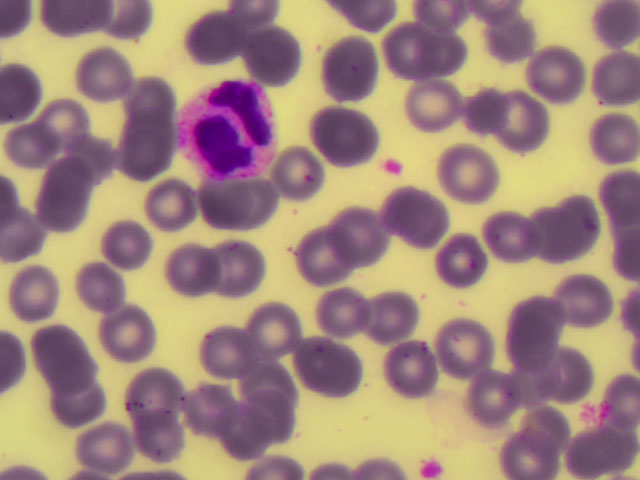Platelets: (384, 157, 401, 175), (422, 460, 440, 477)
RBC: (328, 205, 396, 273), (316, 32, 377, 104), (303, 110, 376, 168), (441, 142, 497, 206), (382, 340, 440, 398), (437, 315, 496, 372), (298, 338, 358, 394), (554, 193, 602, 260), (242, 27, 299, 82), (243, 303, 299, 358), (124, 369, 182, 421), (525, 46, 579, 101), (1, 181, 36, 261), (492, 95, 545, 146), (403, 75, 459, 123), (181, 11, 239, 56), (602, 367, 640, 433), (540, 347, 589, 398), (588, 51, 640, 99), (45, 171, 90, 226), (295, 228, 345, 277), (383, 22, 432, 72), (100, 222, 151, 270), (398, 196, 449, 244), (380, 183, 431, 231), (273, 151, 324, 199), (228, 179, 279, 227), (197, 177, 248, 225), (148, 181, 199, 229), (63, 134, 114, 182), (41, 99, 92, 147), (79, 46, 130, 94), (124, 75, 175, 123), (118, 127, 169, 175), (78, 419, 129, 467), (132, 409, 183, 457), (183, 380, 234, 428), (201, 324, 252, 372), (212, 242, 263, 290), (165, 247, 216, 295), (52, 378, 103, 426), (41, 348, 92, 396), (31, 319, 82, 367), (7, 266, 58, 314), (364, 291, 415, 339), (312, 284, 363, 332), (4, 119, 55, 167), (109, 147, 160, 195), (457, 86, 508, 134), (485, 211, 536, 259), (415, 26, 466, 74), (483, 14, 534, 62), (79, 260, 130, 308), (215, 407, 266, 455), (243, 391, 294, 439), (242, 357, 293, 405), (522, 211, 573, 259), (559, 278, 610, 326), (510, 290, 561, 338), (507, 315, 558, 363), (466, 369, 517, 417), (498, 432, 549, 480), (509, 359, 560, 407), (519, 403, 570, 451), (565, 427, 615, 475), (589, 1, 640, 48), (105, 311, 154, 358), (440, 234, 487, 282), (88, 1, 149, 37), (591, 110, 639, 155), (1, 64, 41, 117), (602, 167, 640, 222), (602, 223, 640, 278), (314, 461, 403, 480), (346, 2, 396, 35), (43, 1, 94, 33), (344, 1, 394, 33), (244, 455, 307, 480), (1, 333, 26, 393), (616, 279, 640, 335), (475, 1, 525, 26), (226, 1, 279, 22), (418, 1, 468, 22), (1, 460, 49, 480), (1, 1, 26, 38)
WBC: (180, 81, 279, 178)
